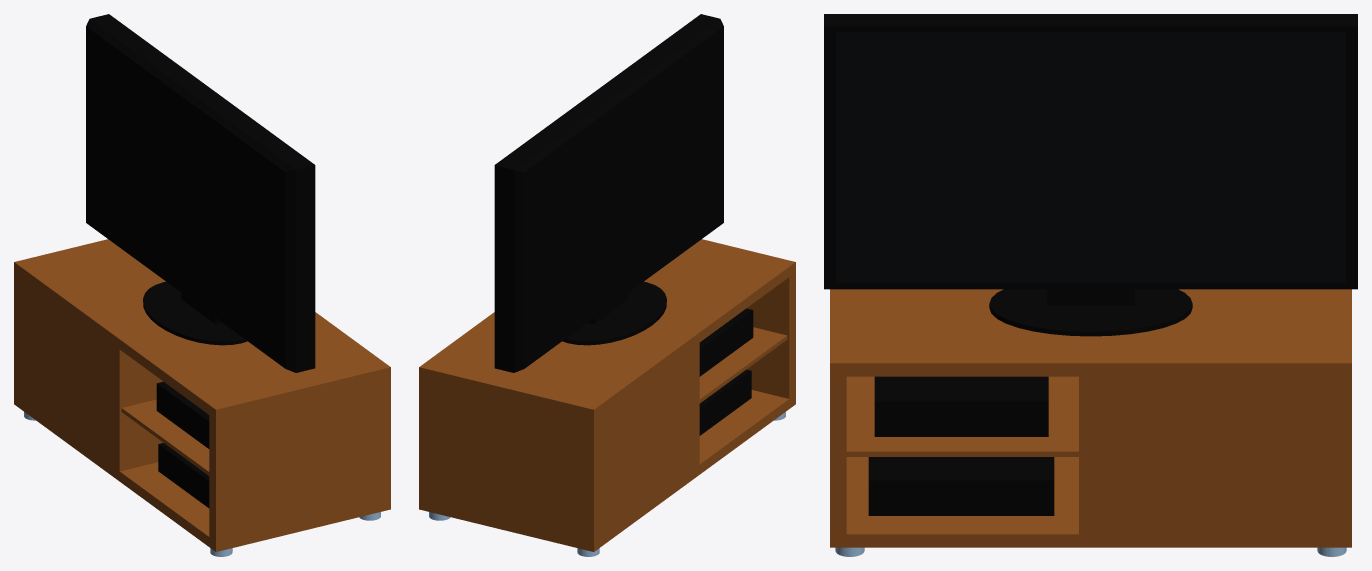
The model's file is TVboard.glb.
3 views of the same model, side by side, from view 1: azimuth 30°, elevation 25°; view 2: azimuth 150°, elevation 25°; view 3: azimuth 270°, elevation 25° (orthographic). The views are drawn at different scales.
Parts seen in each view (by area): view 1: Cube, Cube.004, Cylinder.001, Cube.001, Cube.002, Cube.003; view 2: Cube, Cube.004, Cylinder.001, Cube.001, Cube.002, Cube.003; view 3: Cube.004, Cube, Cube.003, Cube.002, Cube.001, Cylinder.001, Cube.005.
Part boxes in pixels (<box>): Cube: <box>14,239,390,551</box>; Cube.004: <box>86,14,315,372</box>; Cylinder.001: <box>143,281,247,345</box>; Cube.001: <box>121,399,209,475</box>; Cube.002: <box>156,381,209,448</box>; Cube.003: <box>158,443,209,508</box>; Cube: <box>419,239,795,551</box>; Cube.004: <box>494,14,723,372</box>; Cylinder.001: <box>562,281,666,345</box>; Cube.001: <box>699,327,787,403</box>; Cube.002: <box>699,308,753,376</box>; Cube.003: <box>699,369,751,435</box>; Cube.004: <box>824,14,1357,289</box>; Cube: <box>830,289,1351,547</box>; Cube.003: <box>868,457,1054,515</box>; Cube.002: <box>874,376,1048,436</box>; Cube.001: <box>846,376,1078,456</box>; Cylinder.001: <box>989,289,1192,336</box>; Cube.005: <box>1047,289,1134,305</box>.
Size of the model in its own units: 0.45 by 0.9199 by 0.92.
